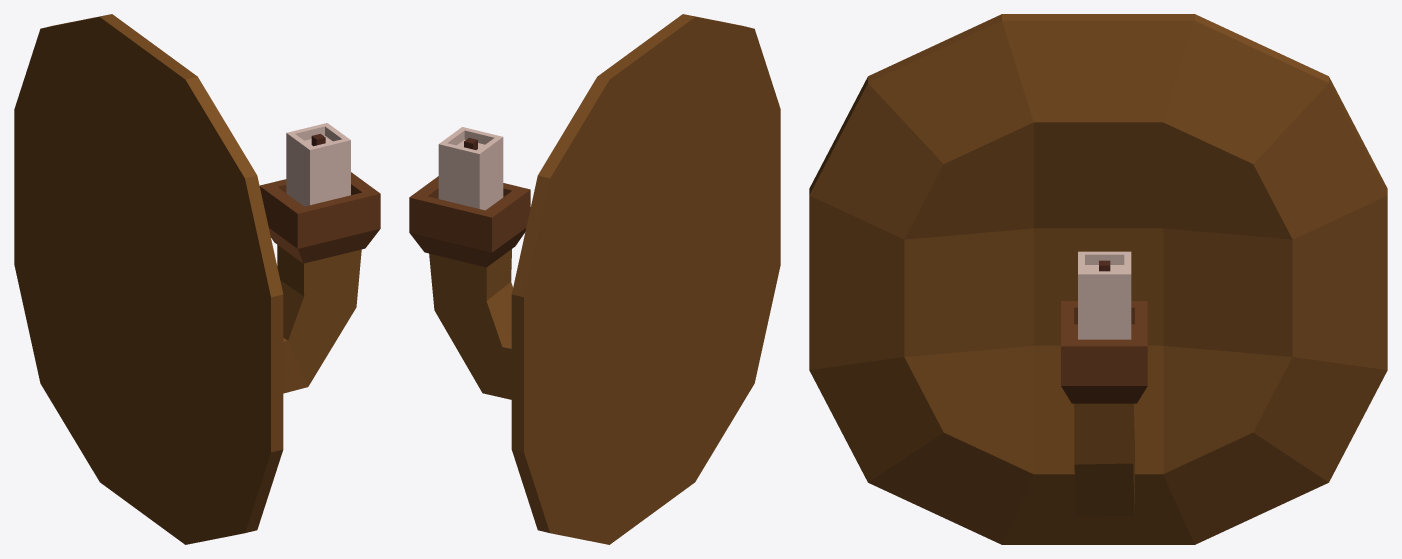
File: seinalampp.fbx
3 views of the same model, side by side, from view 1: azimuth 30°, elevation 25°; view 2: azimuth 150°, elevation 25°; view 3: azimuth 270°, elevation 25° (orthographic). The views are drawn at different scales.
Parts seen in each view (by area): view 1: Cube.003; view 2: Cube.003; view 3: Cube.003.
Part boxes in pixels (x1,y1,x2,y2): Cube.003: (14, 14, 380, 544); Cube.003: (409, 14, 780, 544); Cube.003: (809, 14, 1387, 544).
Size of the model in its own units: 23.95 by 48.13 by 48.13.
